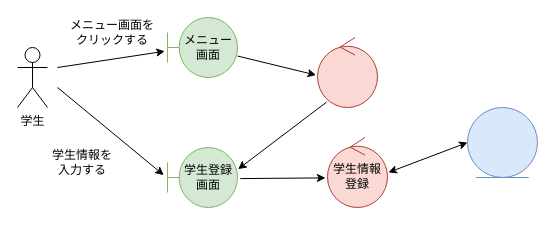
Some shapes in this 555 by 225 pixel diagram are drawn without their labels. Each missing label, with the centre of its shape:
学生オブジェクト: the point at 502,142
表示: the point at 347,72
